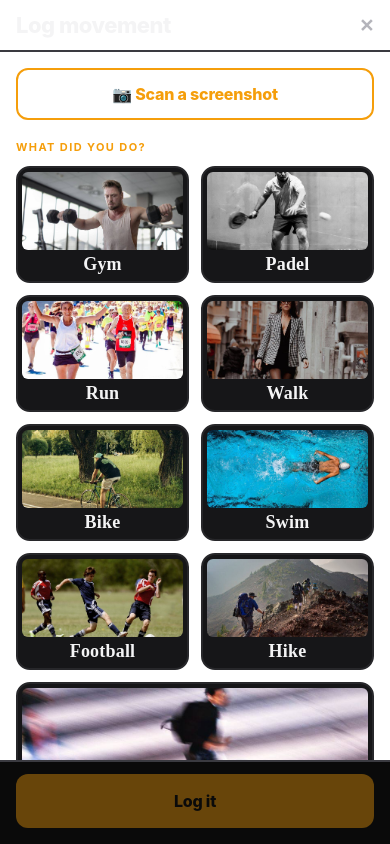
Test case: QuickLogSheet › picking a quick-log type (padel) shows the form, not a session route
Click the element named "type Padel".
click(288, 224)  # box x1=201 y1=166 x2=374 y2=283
(page scrolled)
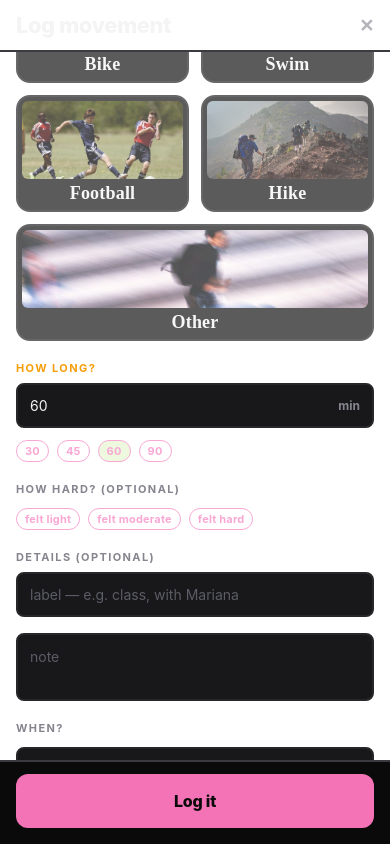
Result: the field named "duration minutes" is shown at x1=30 y1=385 x2=334 y2=426
